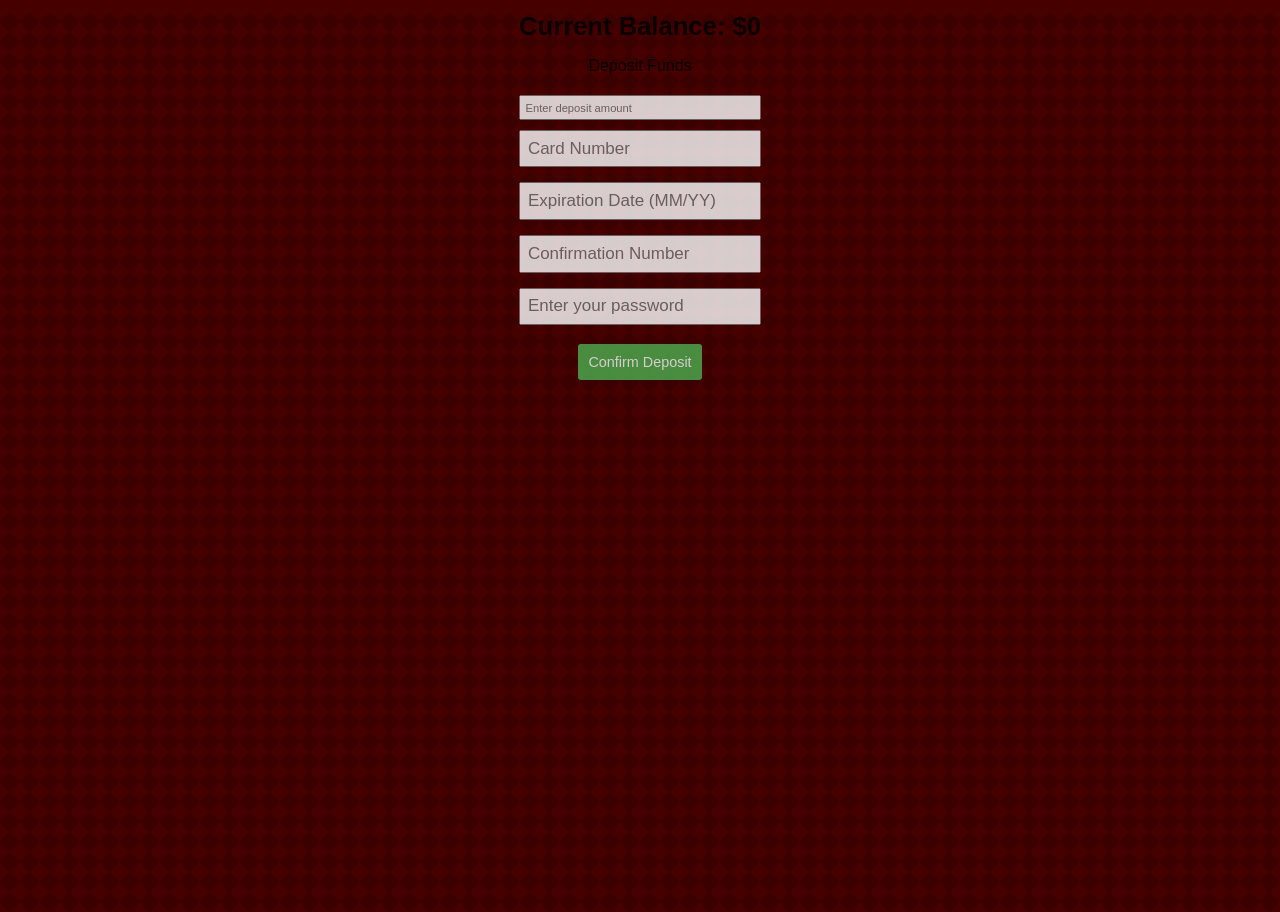
Test: Balance Component › displays an error message if the deposit fails
The image size is (1280, 912).
Fill in the fields with valid data
Type "100" into the number field with placeholder "Enter deposit amount" at [640, 108], box [519,96,761,120]
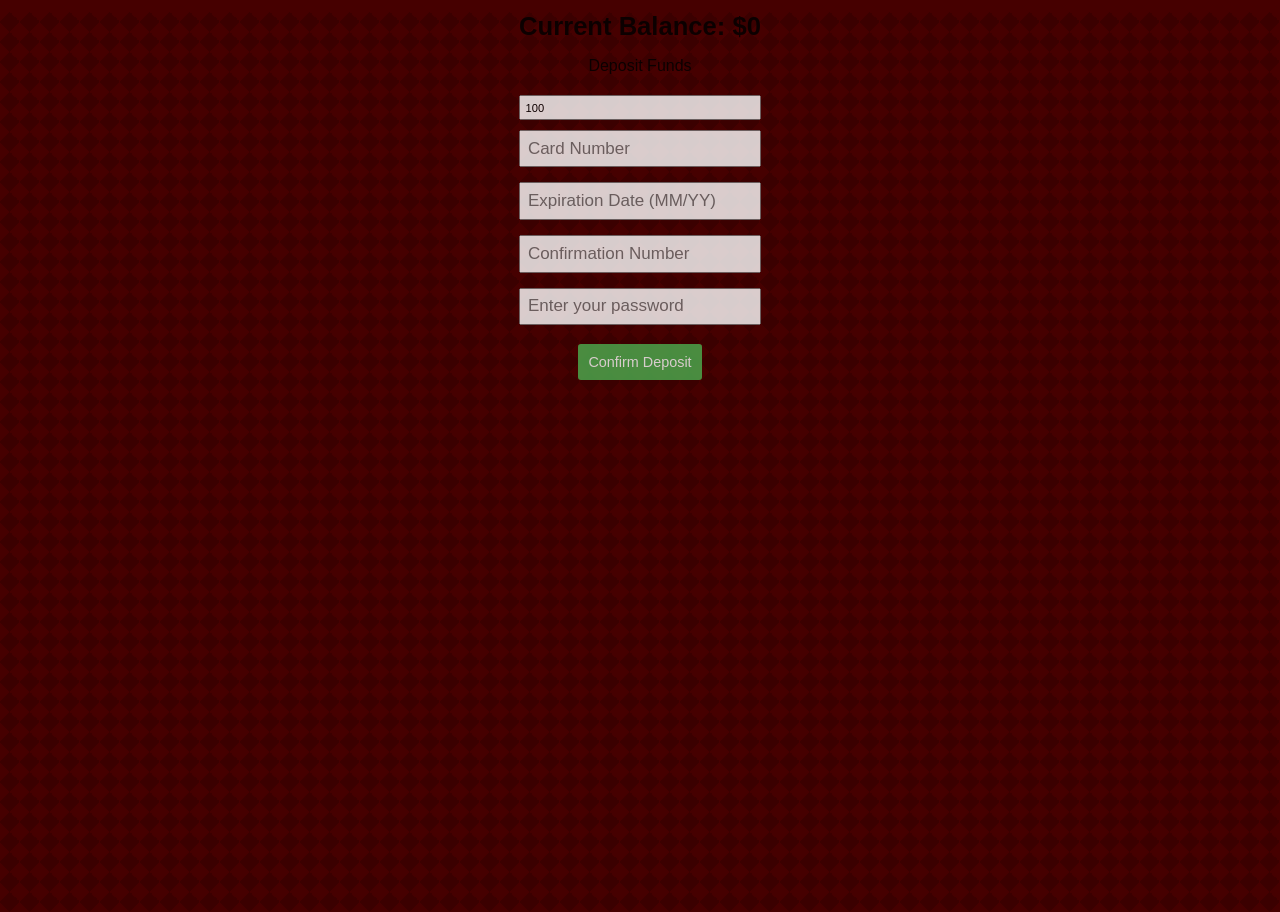
Type "1234567890123456" into the field with placeholder "Card Number" at [640, 149], box [519,130,761,168]
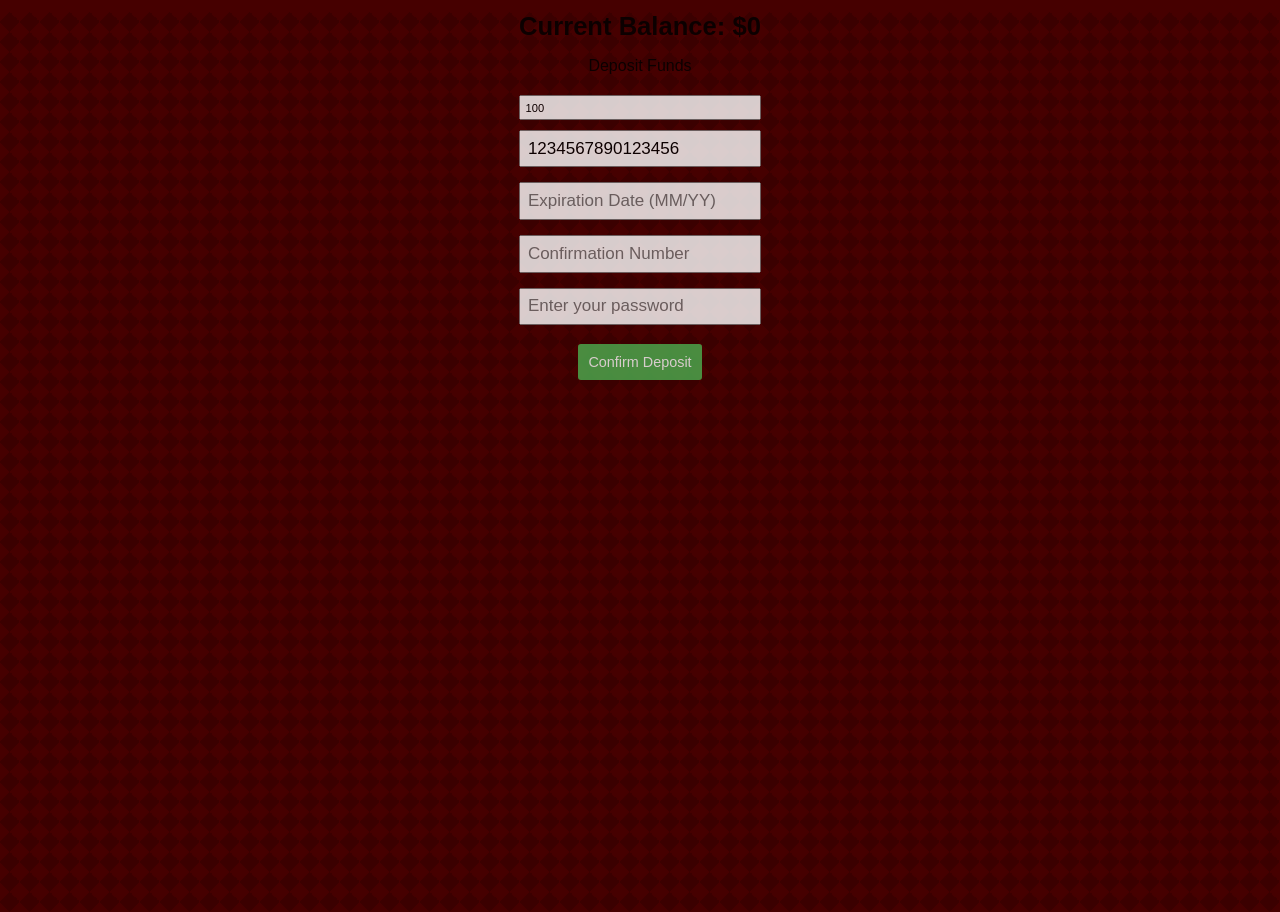
Type "12/34" into the field with placeholder "Expiration Date (MM/YY)" at [640, 201], box [519,182,761,220]
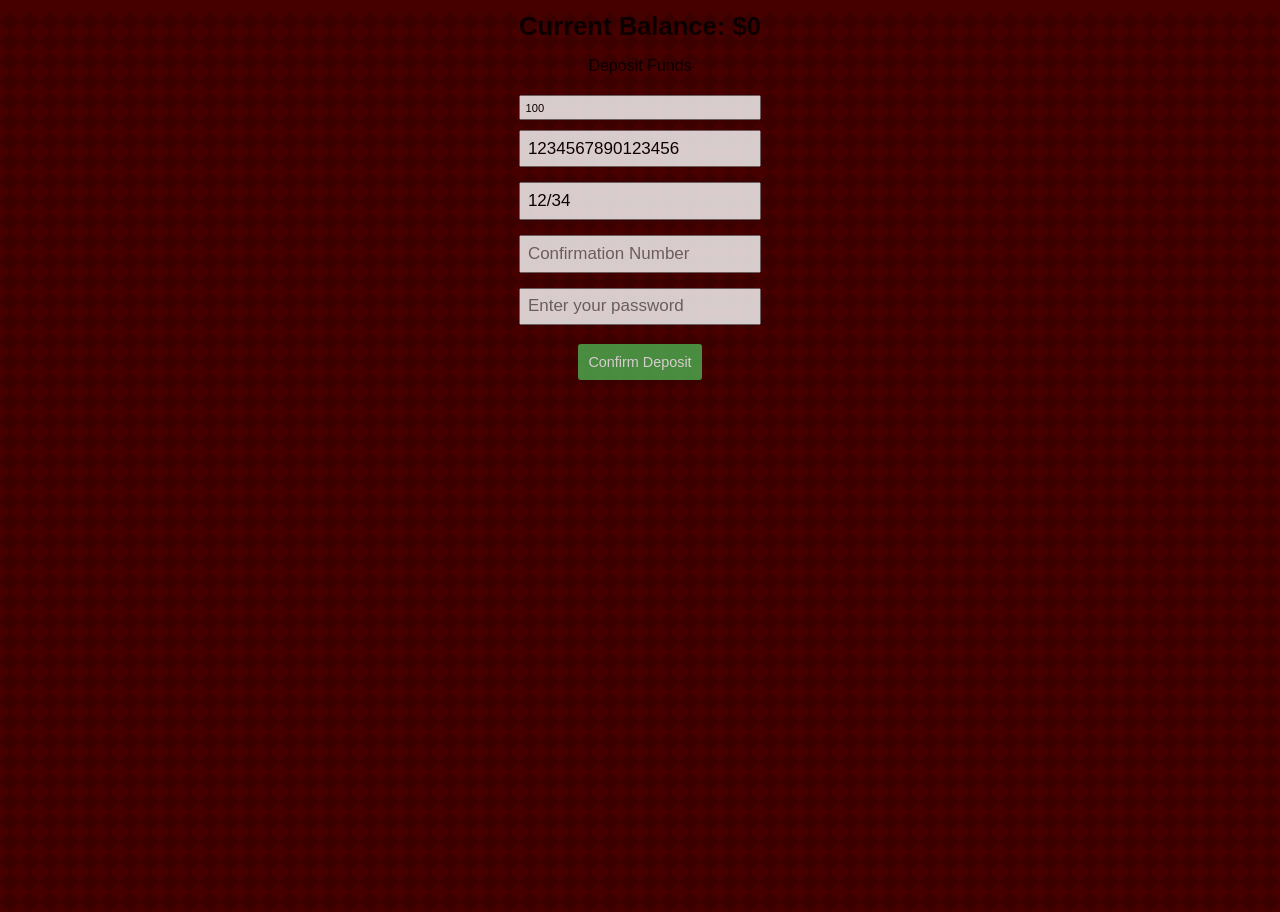
Type "123" into the field with placeholder "Confirmation Number" at [640, 254], box [519,235,761,273]
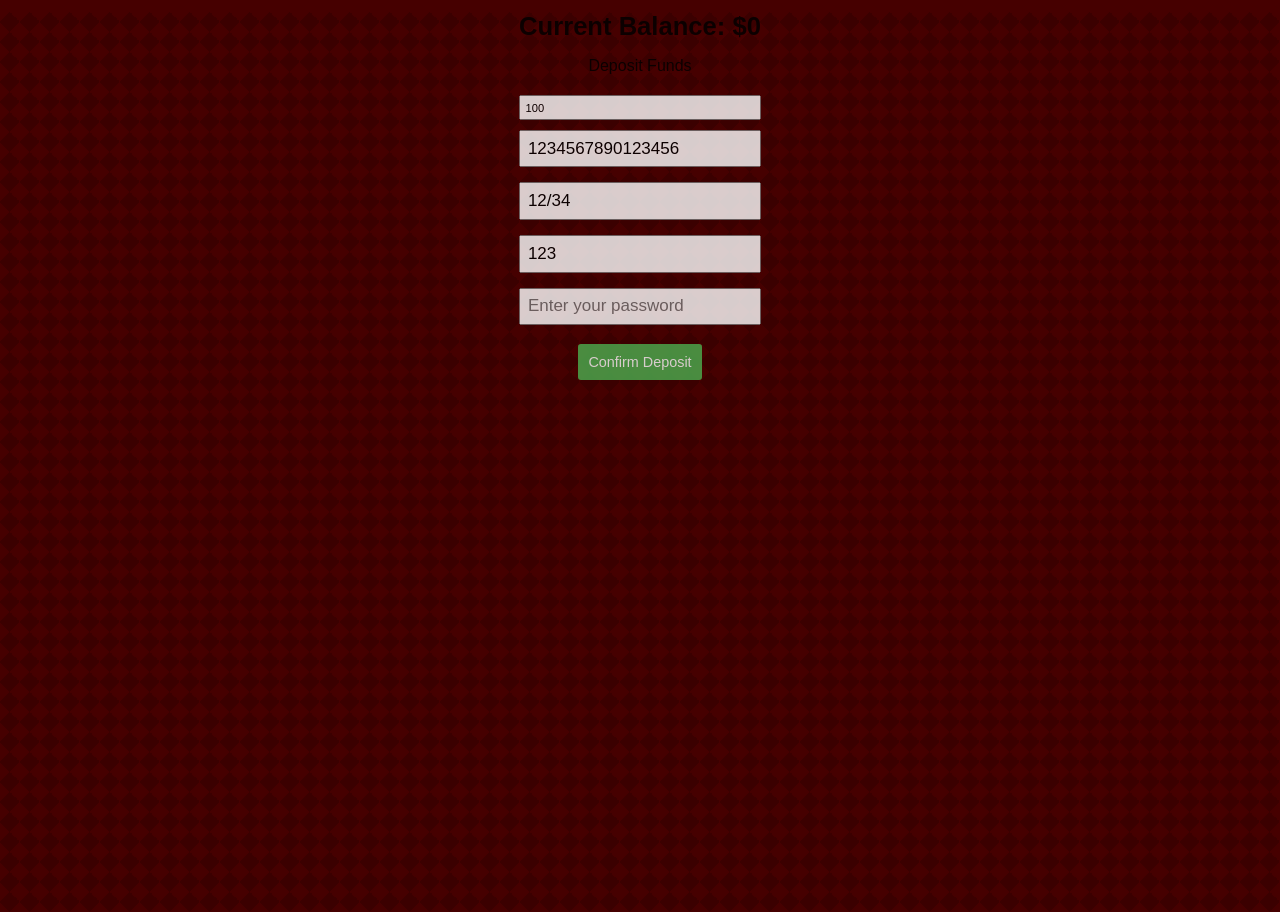
Type "password" into the password field with placeholder "Enter your password" at [640, 306], box [519,288,761,325]
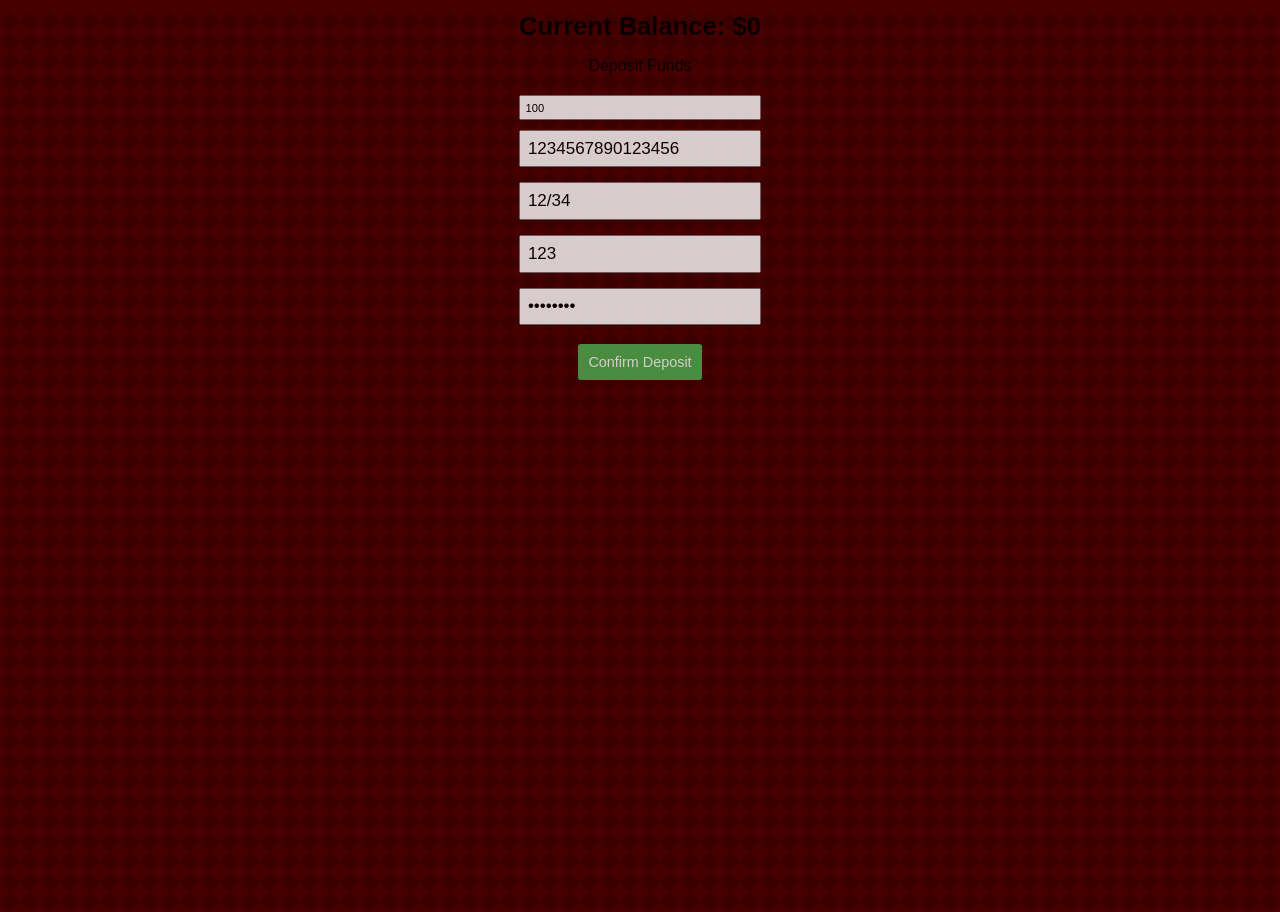
Click the Confirm Deposit button
Click the button "Confirm Deposit" at [640, 362], box [578,344,702,380]
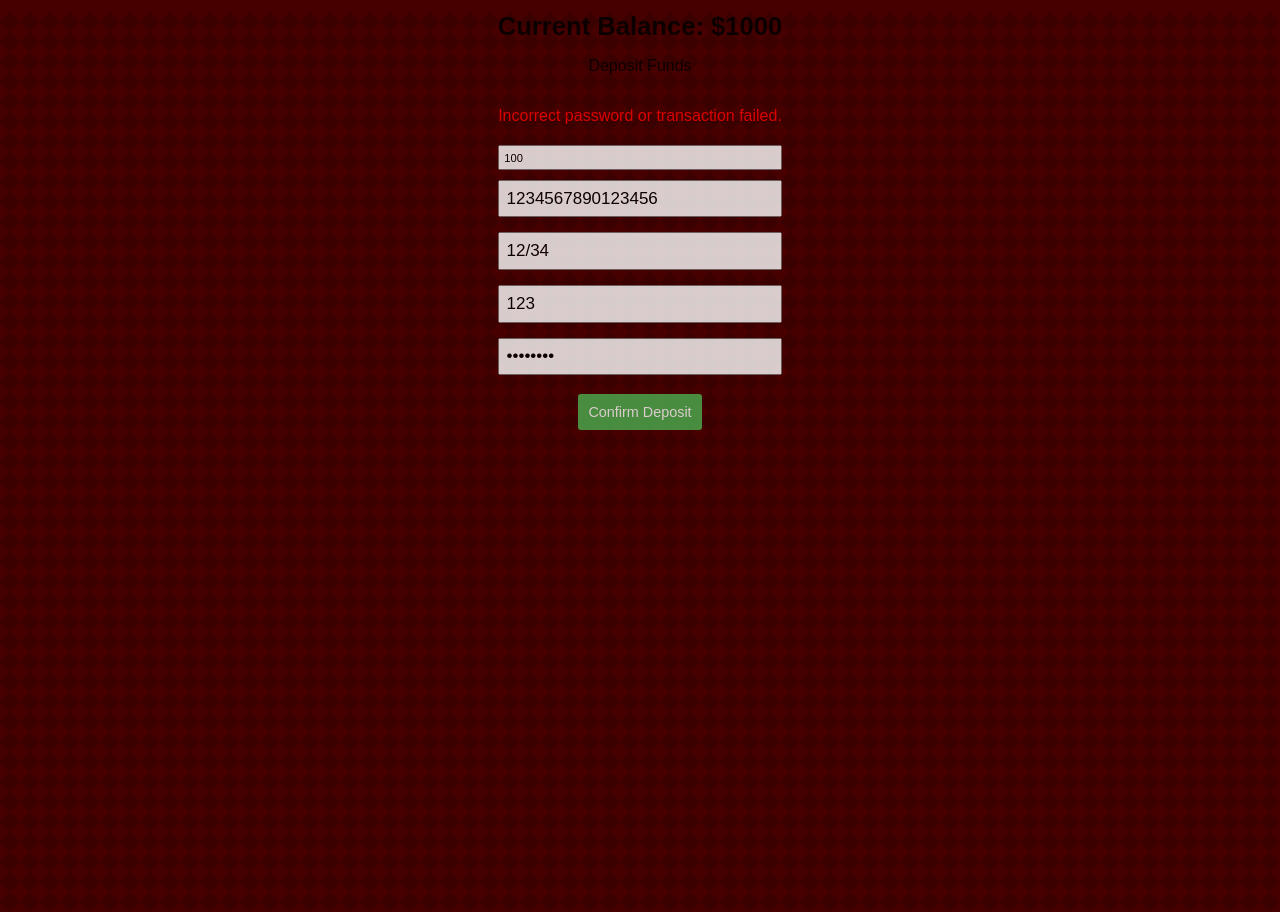
Now the text "Incorrect password or transaction failed." is shown, box [498,107,782,125]
